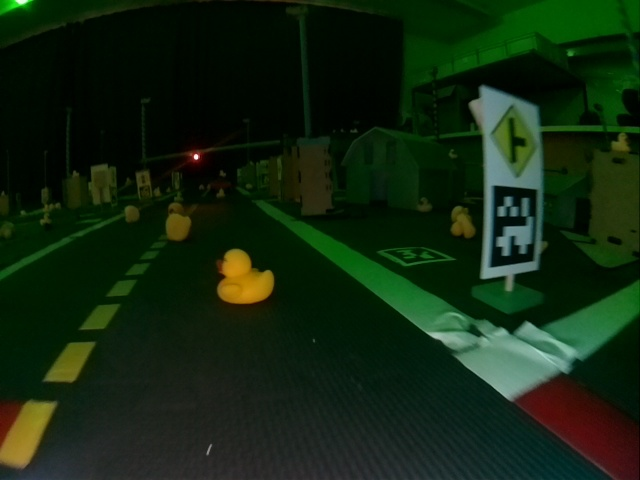Duckie: (217, 249, 274, 305), (164, 212, 192, 242), (450, 213, 474, 238), (612, 132, 631, 154), (124, 204, 140, 222), (418, 197, 433, 210)
Intersection sign: (490, 102, 539, 181)
QR code: (488, 185, 539, 270), (377, 247, 453, 266)
Traffic light: (191, 150, 201, 162)
